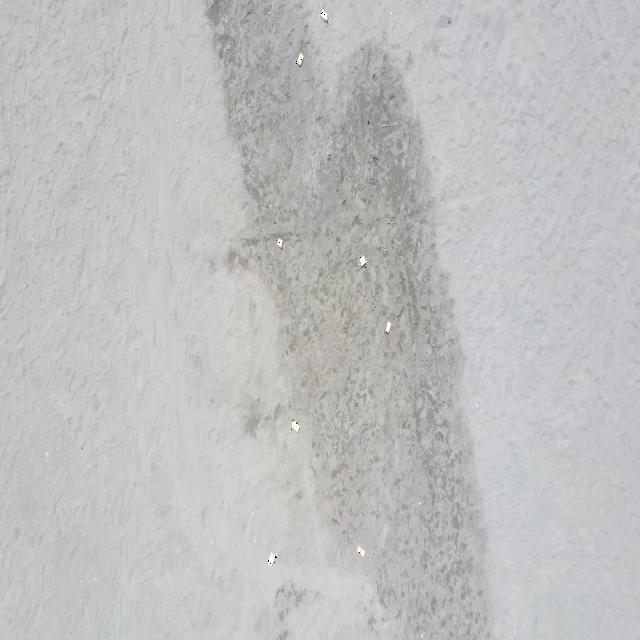Garbage: (267, 552, 276, 564), (296, 52, 303, 65), (357, 256, 366, 266), (291, 420, 298, 432), (320, 10, 327, 22), (356, 546, 364, 556), (384, 322, 390, 333), (276, 238, 281, 247)
